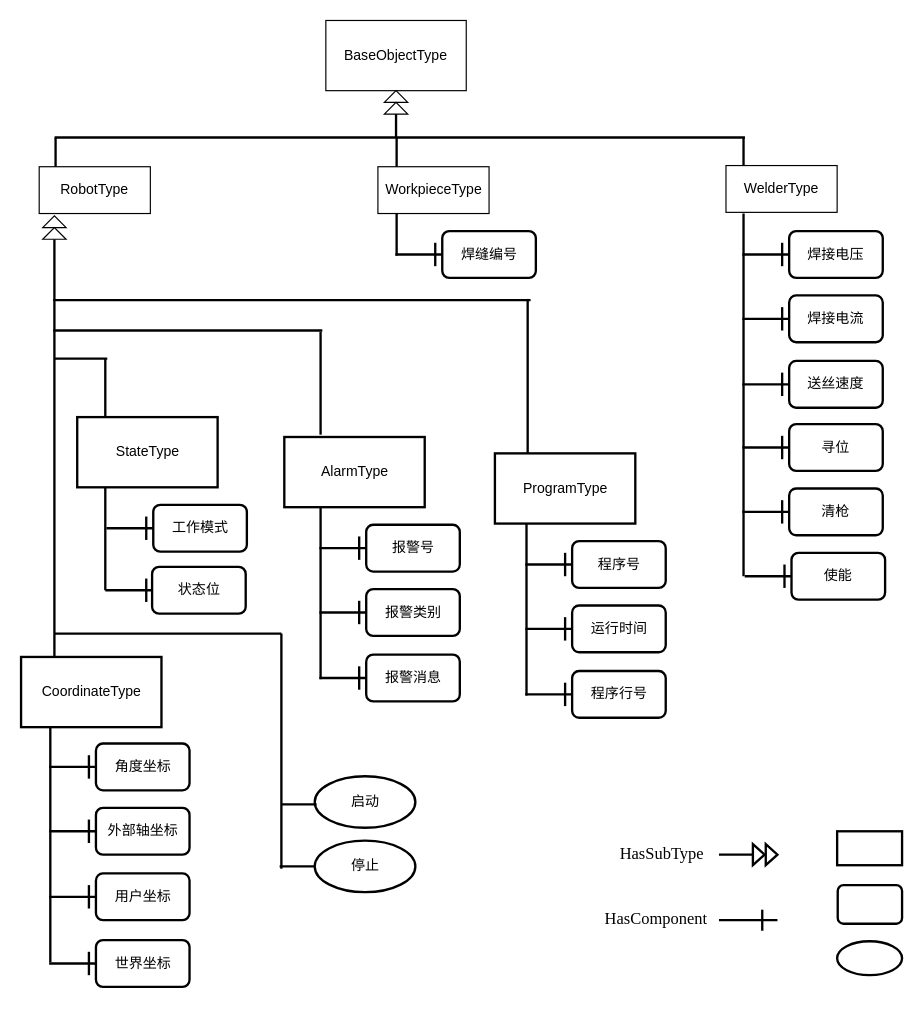
Image size: 923x1009. Some labels were removed from this diagram. Each missing label, with the box of its shape:
变量: (836, 883, 903, 924)
对象: (835, 830, 903, 866)
方法: (835, 940, 903, 976)
